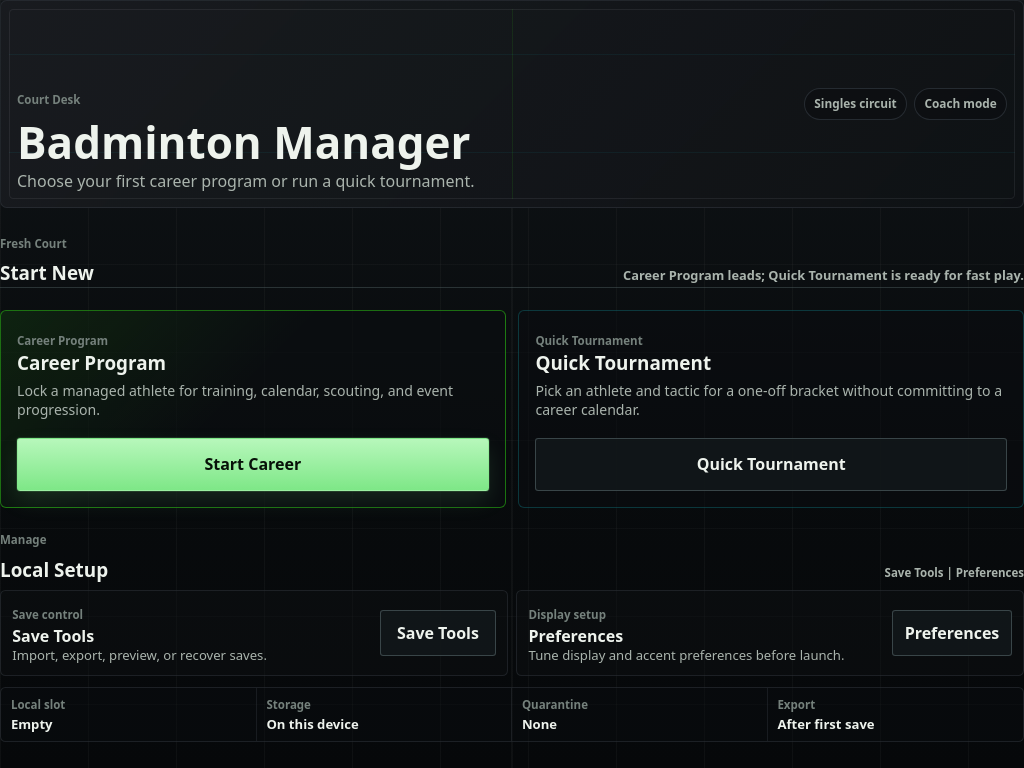
Test: SetupView › shows recommendations first and keeps the full roster as a fallback inside the modal
Click the button "Quick Tournament" at {"x": 771, "y": 464}, box left=535, top=438, right=1007, bottom=491
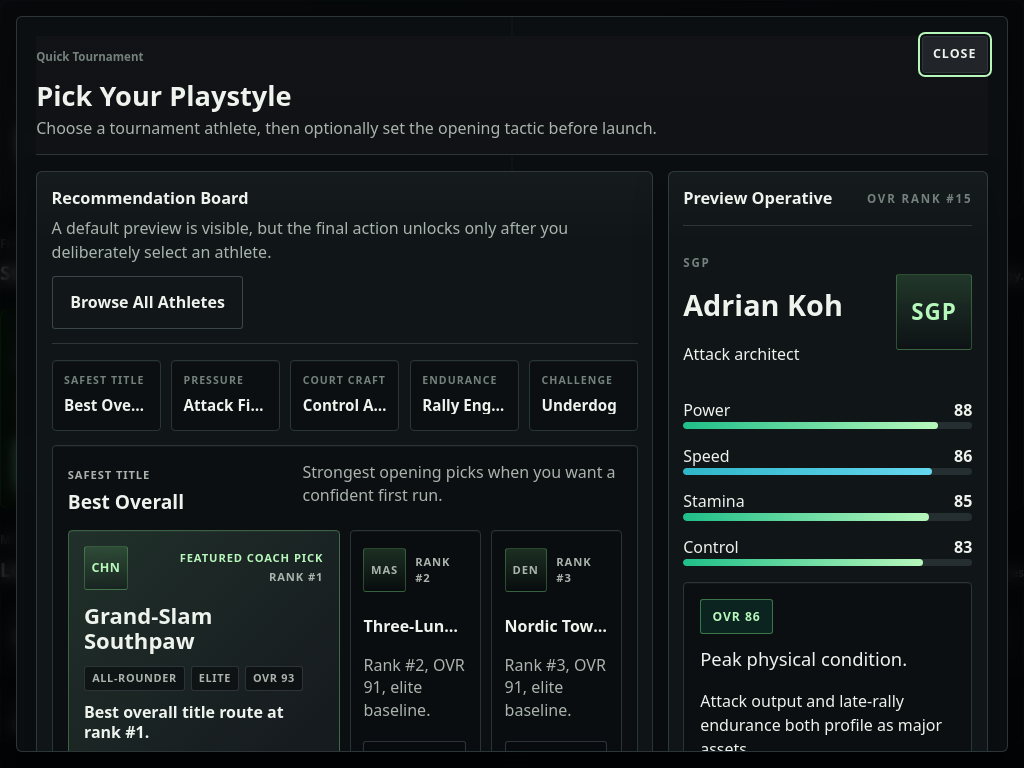
Now the heading "Pick Your Playstyle" is shown, box left=36, top=78, right=292, bottom=114
Now the button "Pressure Attack First" is shown
Now the button "Court craft Control Artist" is shown, box left=290, top=360, right=399, bottom=431
Click the button "Pressure Attack First" at {"x": 225, "y": 396}, box left=171, top=360, right=280, bottom=431
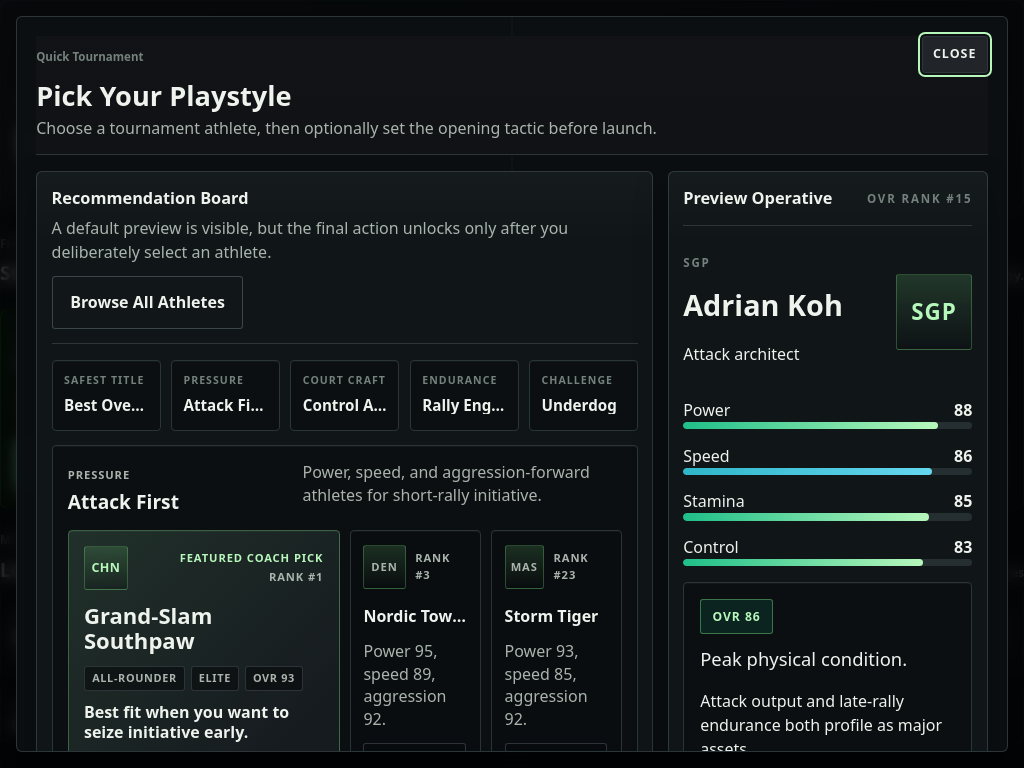
Now the text "aggression" is shown, box left=302, top=461, right=590, bottom=506
Click the button "Browse All Athletes" at {"x": 148, "y": 302}, box left=52, top=276, right=244, bottom=329
(page scrolled)
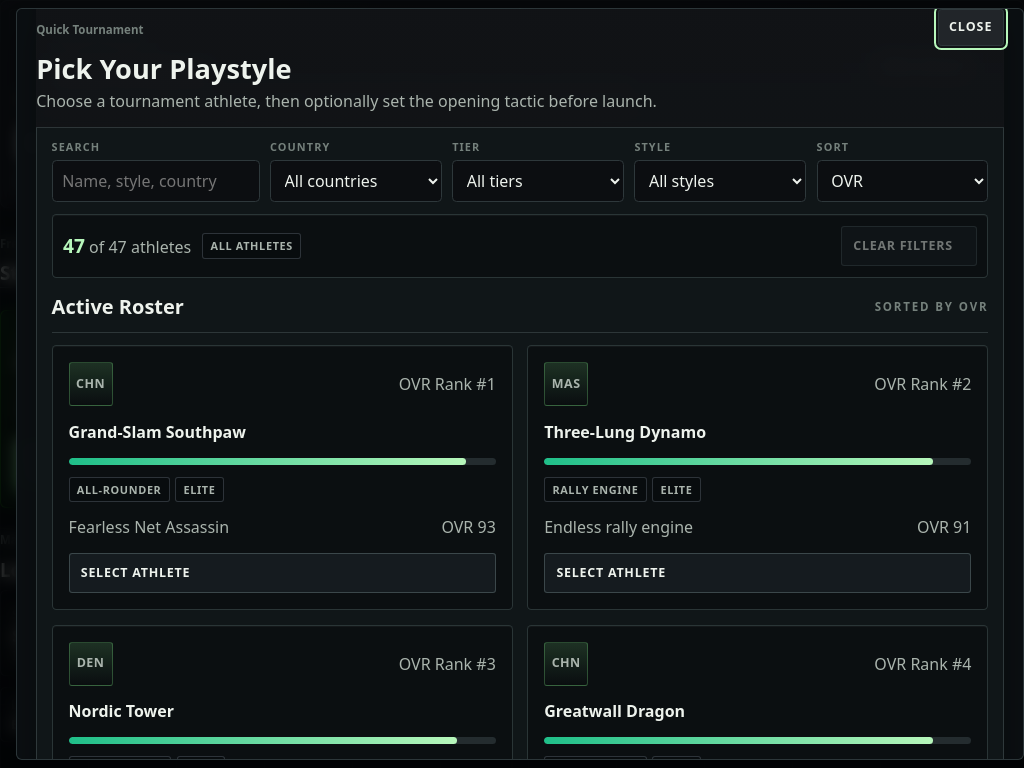
Now the search field labelled "Search" is shown, box left=52, top=160, right=260, bottom=202
Now the dropdown labelled "Country" is shown, box left=270, top=160, right=442, bottom=202
Now the dropdown labelled "Tier" is shown, box left=452, top=160, right=624, bottom=202
